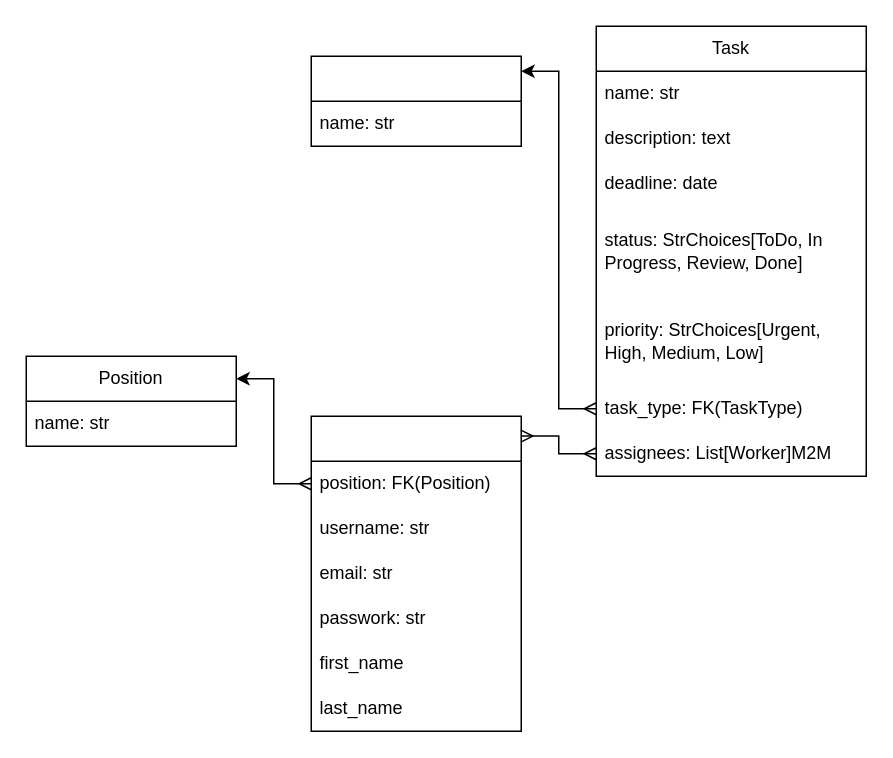
The diagram is 893 pixels wide and 758 high, and some of its shapes have lost their labels. Here are the shapes that lost their labels. From the top down, the box of each, then its label:
(310, 55, 521, 146): TaskType
(310, 415, 521, 731): Worker(AbstractUser)
